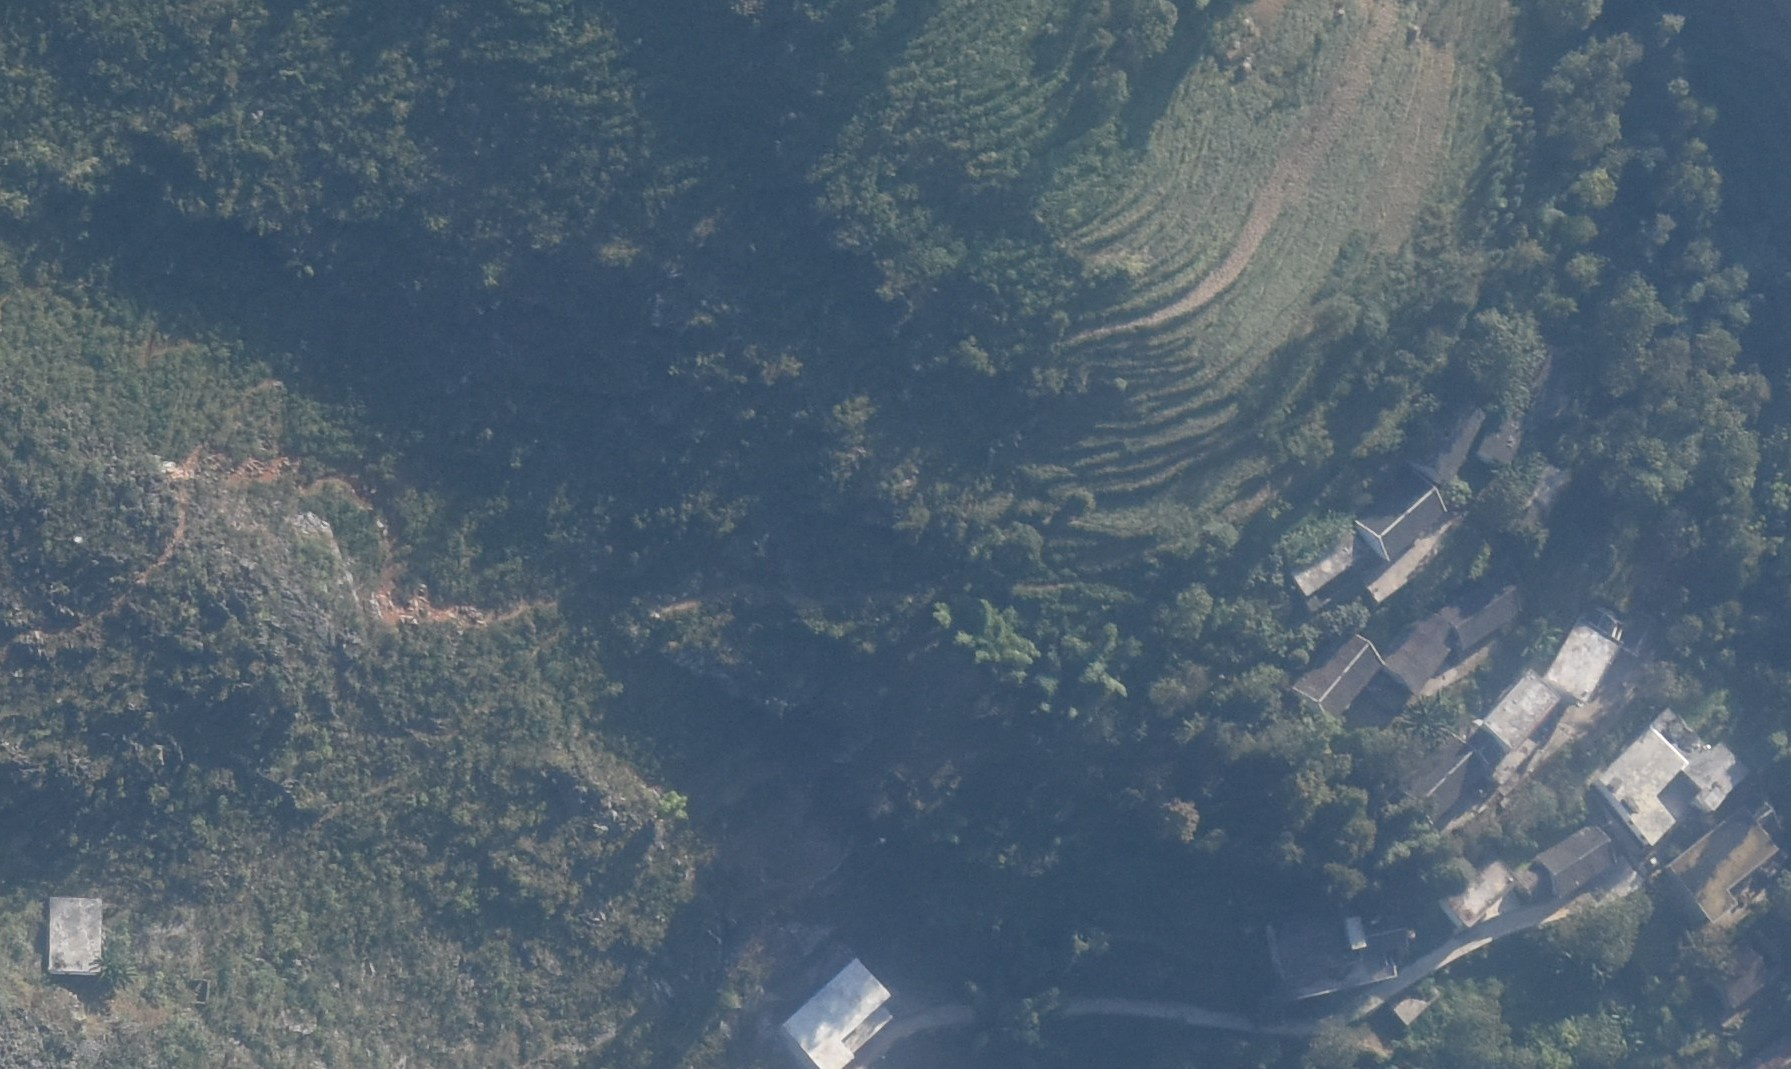building: (1599, 708, 1749, 848), (1669, 798, 1788, 932), (778, 958, 895, 1066), (1266, 914, 1409, 996), (1393, 732, 1490, 821), (1540, 604, 1626, 704), (1355, 467, 1445, 559), (1292, 632, 1385, 719), (1403, 386, 1484, 484), (1440, 569, 1530, 652), (1481, 664, 1562, 750), (1385, 611, 1455, 697), (1534, 825, 1618, 893), (1442, 860, 1523, 928), (45, 890, 106, 974)
